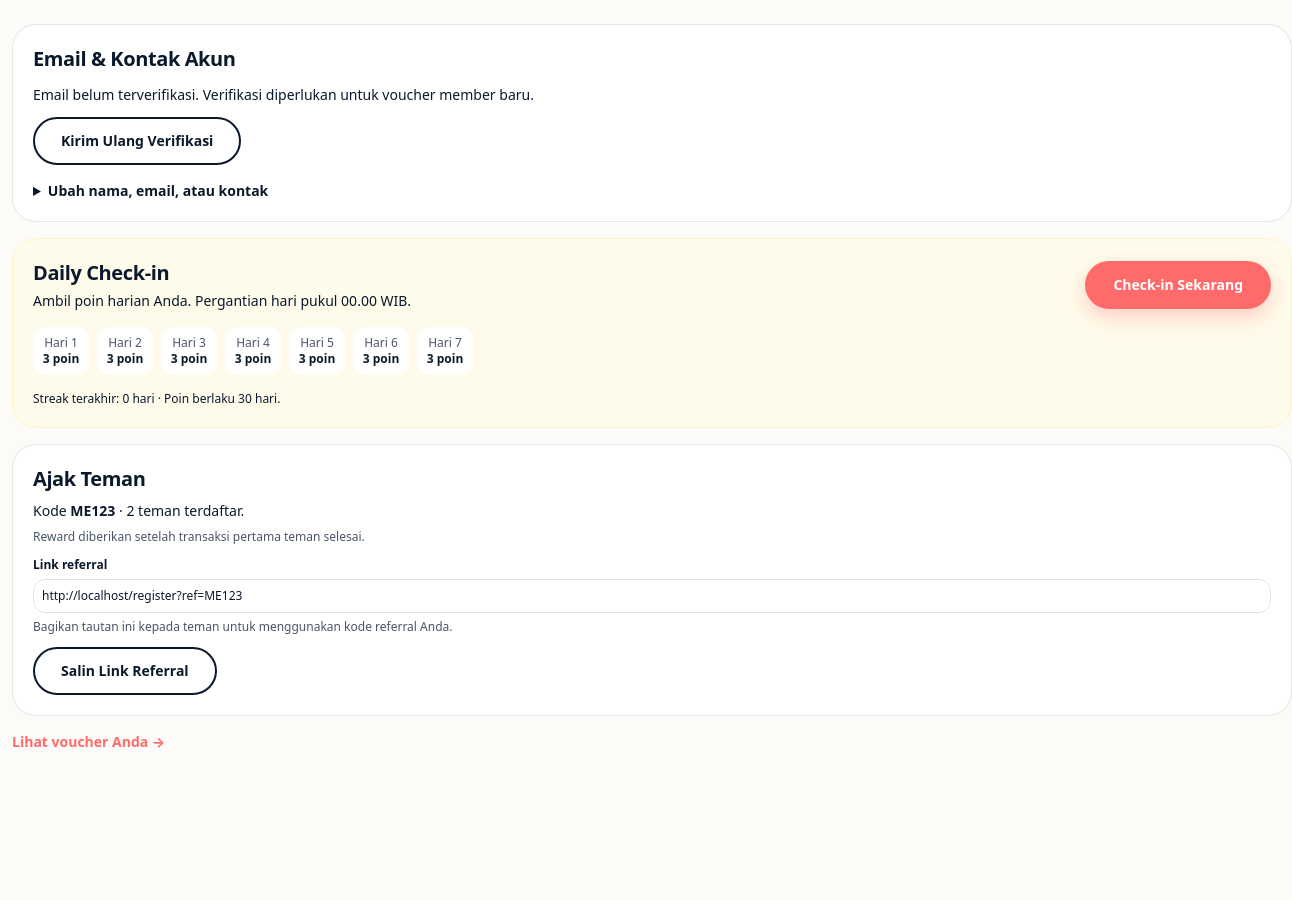
Test: email resend respects the server cooldown
What coordinates should you click on to do the following:
click the button "Kirim Ulang Verifikasi"
I would click on:
 (137, 141)
Its box is [33, 117, 241, 165].
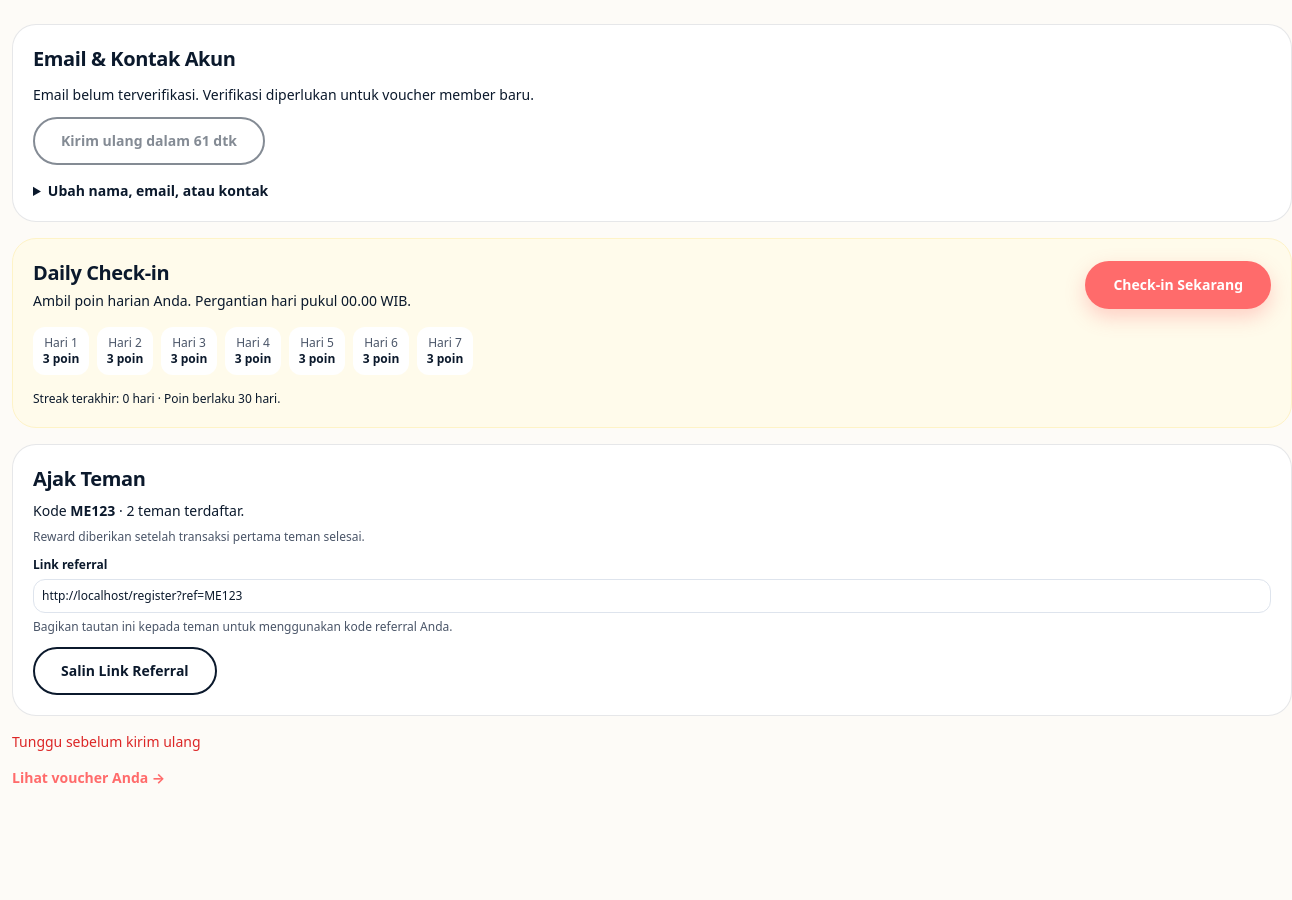
Check: the button "Kirim ulang dalam 61 dtk" is disabled, box [33, 117, 265, 165]
Check: the message "Tunggu sebelum kirim ulang" is shown, box [12, 732, 201, 751]
